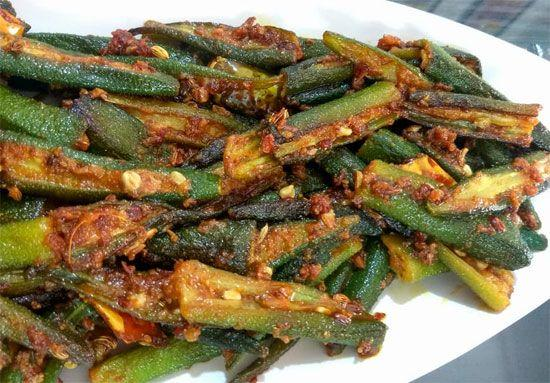bhindi: (0, 20, 533, 341)
